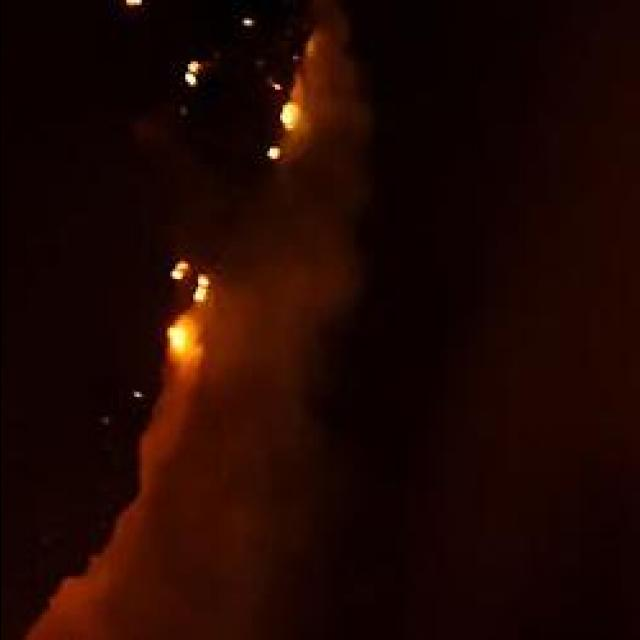fire: (163, 324, 187, 348), (182, 62, 204, 88), (280, 101, 299, 128), (192, 274, 210, 302), (168, 262, 189, 282)
smoke: (171, 429, 331, 640), (228, 237, 372, 332), (95, 562, 262, 640), (196, 348, 316, 442), (309, 34, 371, 146), (282, 168, 359, 256), (150, 404, 218, 482)
